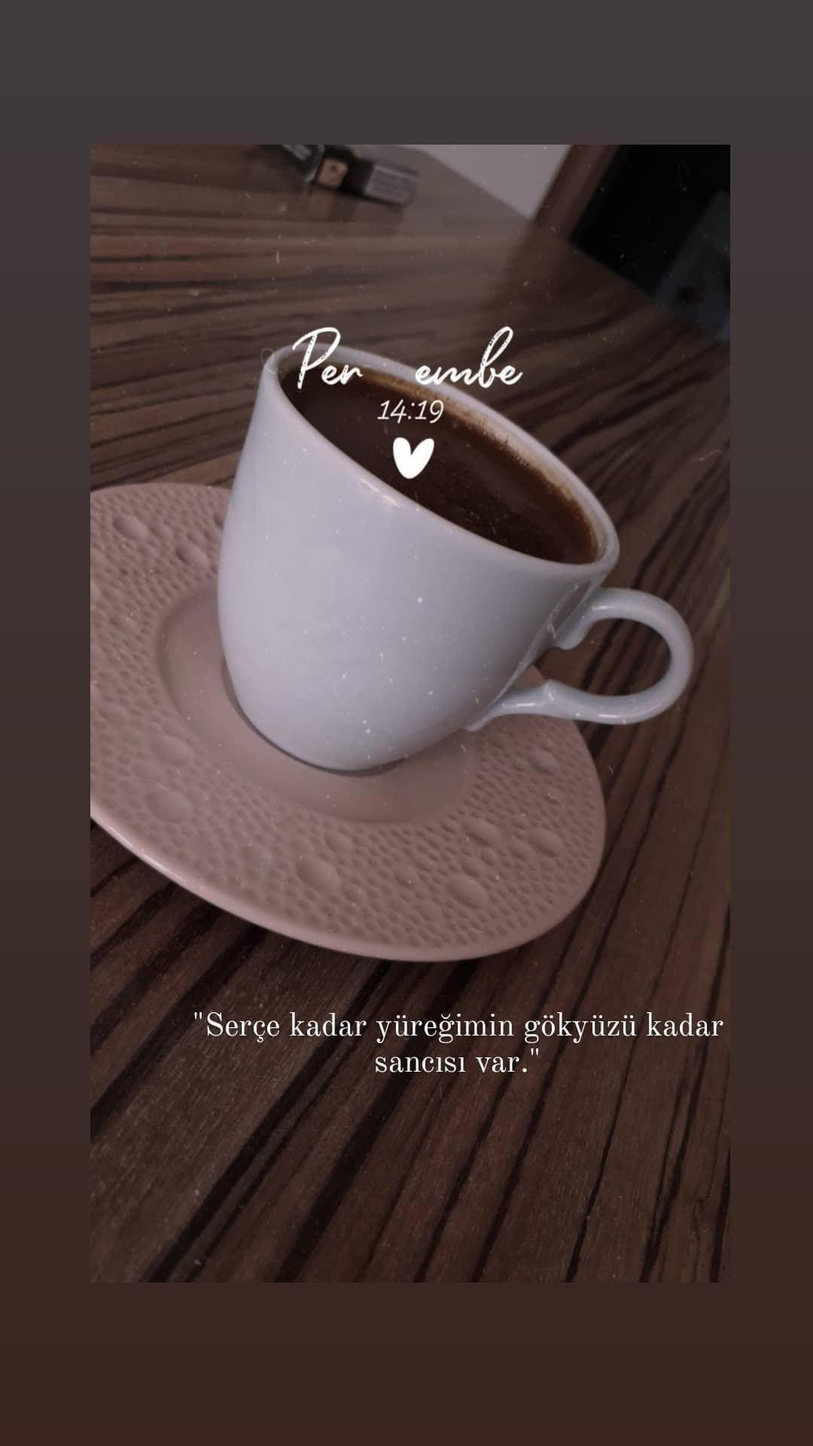cup-handle: (212, 334, 697, 775)
